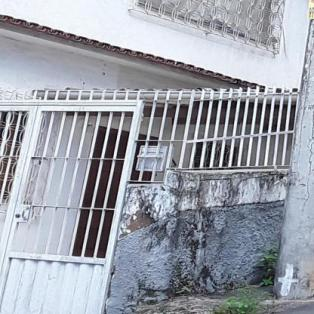Poste: (265, 0, 314, 292)
